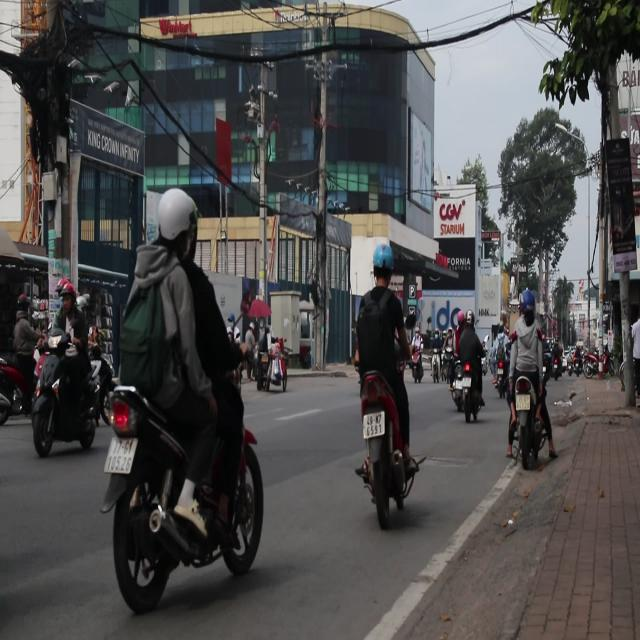motorbike: (97, 365, 263, 614), (352, 365, 430, 538), (30, 338, 101, 457), (511, 365, 547, 480), (0, 353, 28, 427), (448, 356, 472, 416), (464, 367, 485, 421), (584, 353, 602, 379)
